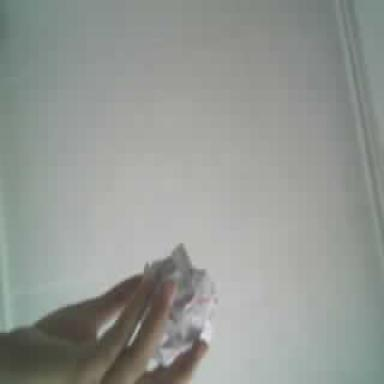paper: (148, 243, 217, 365)
